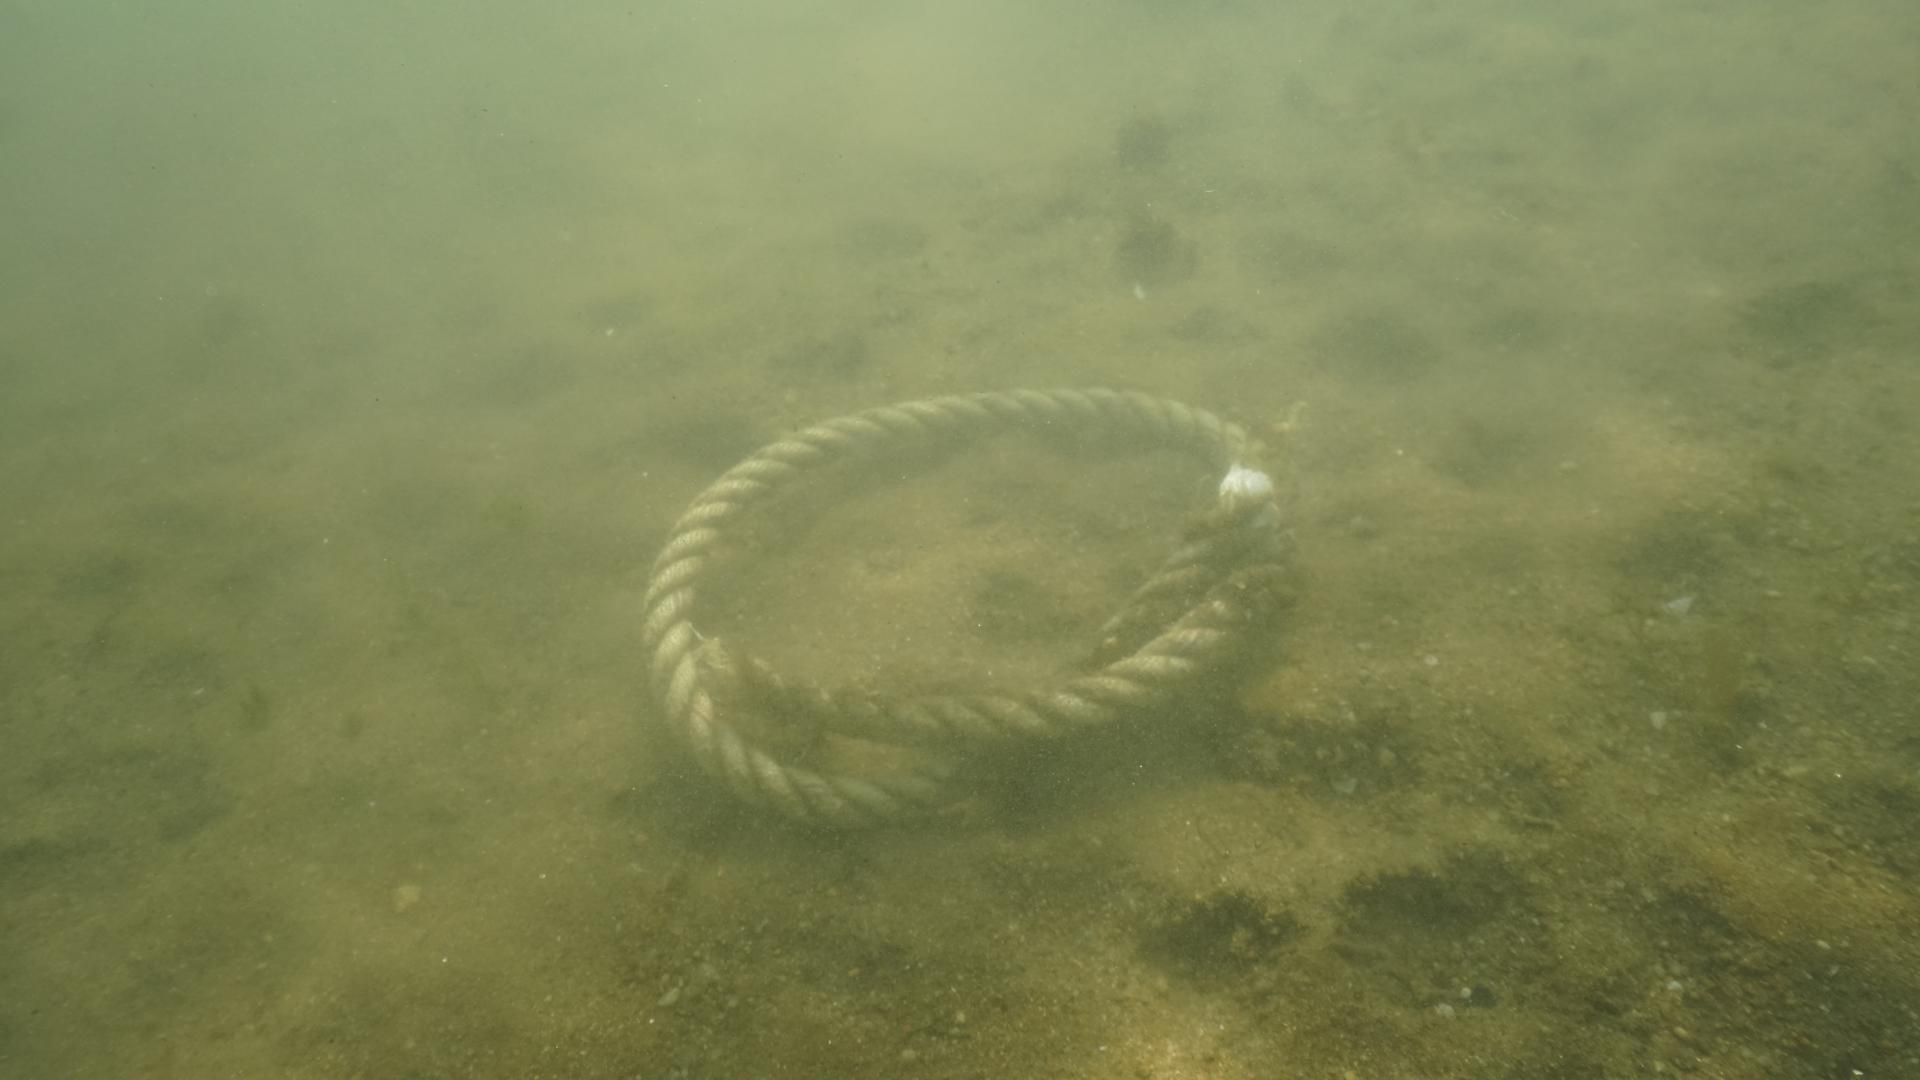bundle of ropes: (632, 371, 1294, 836)
